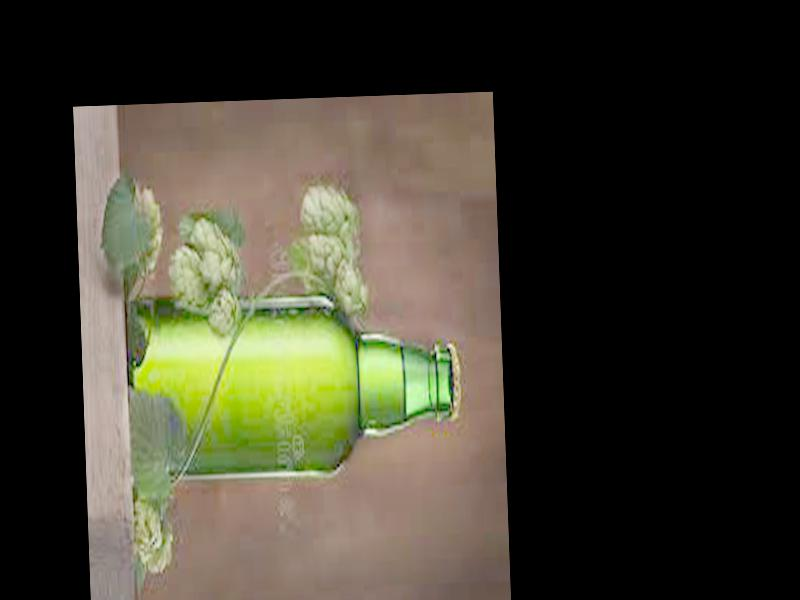Beer: (119, 295, 464, 484)
